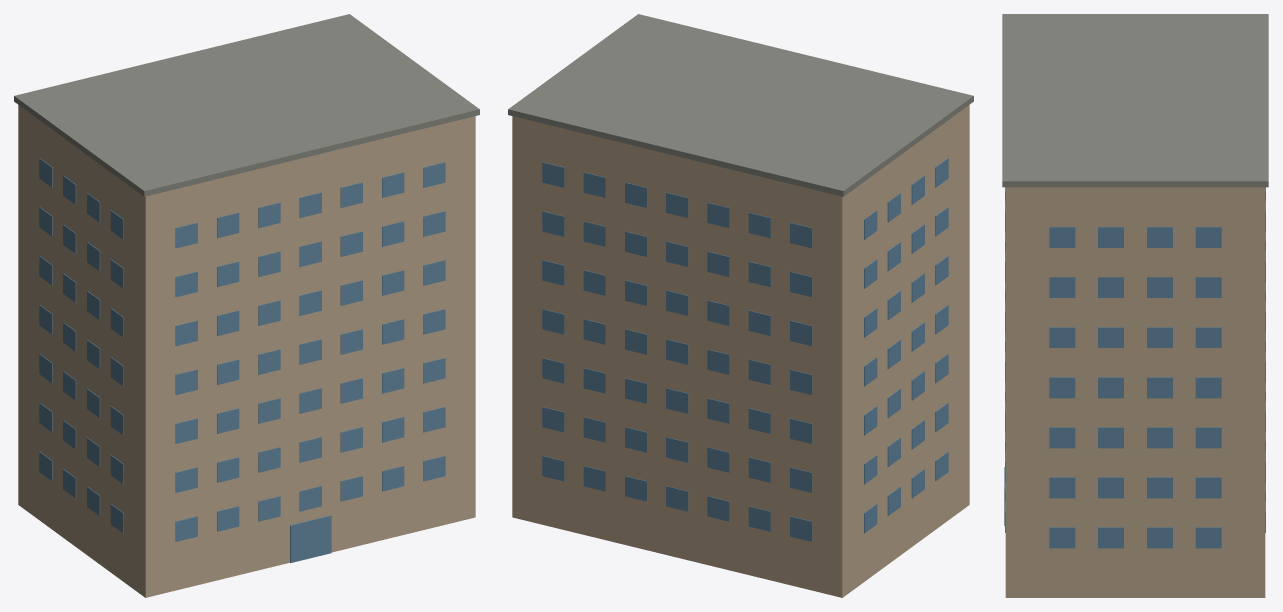
The model's file is EdificioA.obj.
The picture shows the model from 3 angles, left to right: view 1: azimuth 30°, elevation 25°; view 2: azimuth 150°, elevation 25°; view 3: azimuth 270°, elevation 25°; orthographic projection. The views are drawn at different scales.
Parts seen in each view (by area): view 1: EdificioA; view 2: EdificioA; view 3: EdificioA.
Boxes of the visible parts, left/top/right/bottom form: EdificioA: left=14, top=14, right=479, bottom=597; EdificioA: left=508, top=14, right=973, bottom=597; EdificioA: left=1002, top=14, right=1268, bottom=597.
Size of the model in its own units: 24.4 by 28.4 by 16.4.
